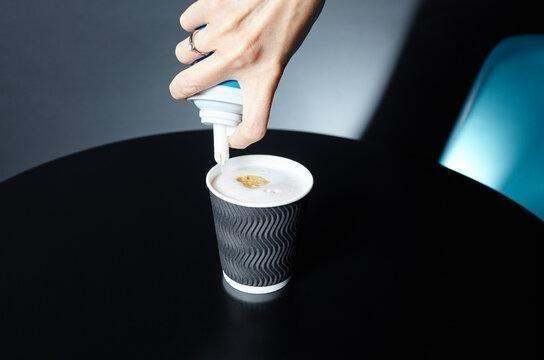cup-disposable: (204, 152, 315, 302)
